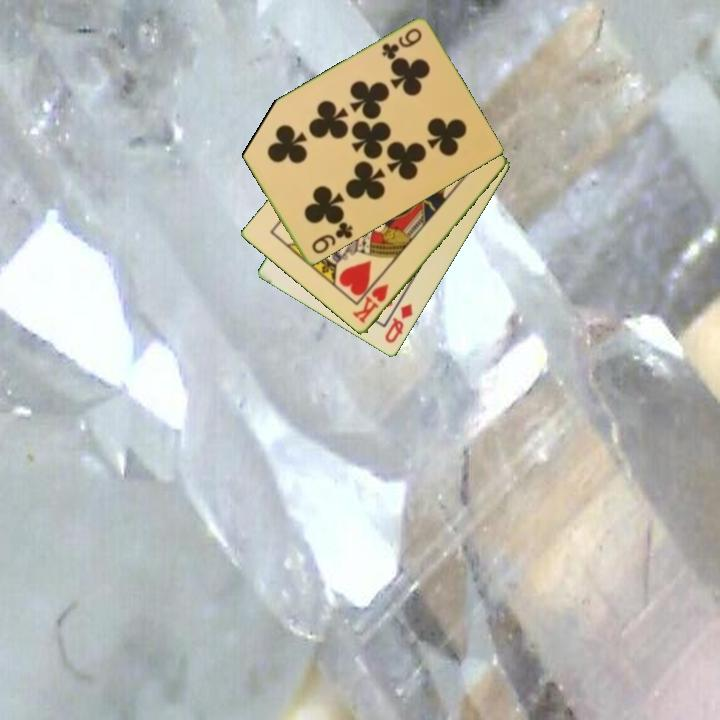9c: (308, 218, 356, 257), (378, 25, 425, 63)
Kh: (349, 280, 392, 327)
Qd: (381, 300, 416, 347)
